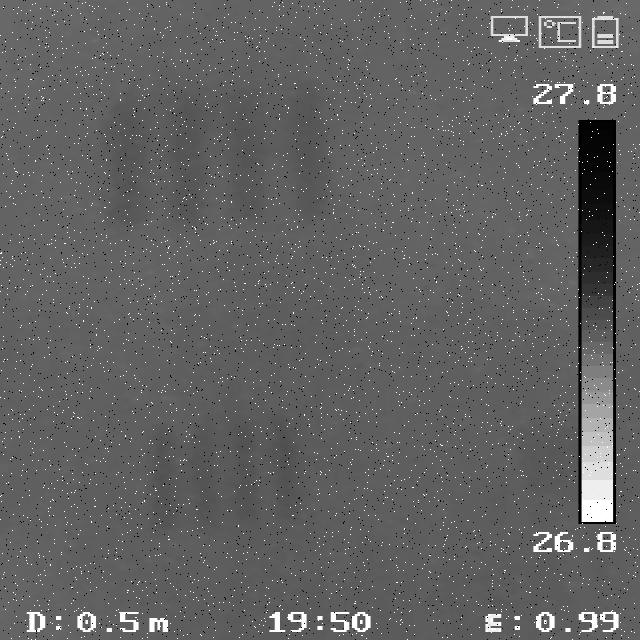threshold 4-bar target: (109, 83, 332, 220), (151, 420, 313, 523)
